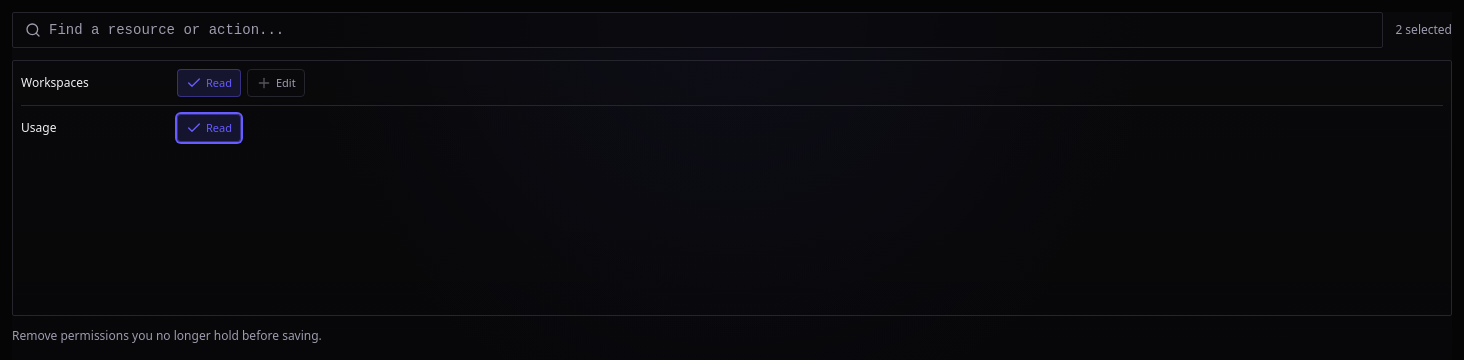
Test: supports keyboard selection and removal without regranting unavailable permissions
Type keys " "
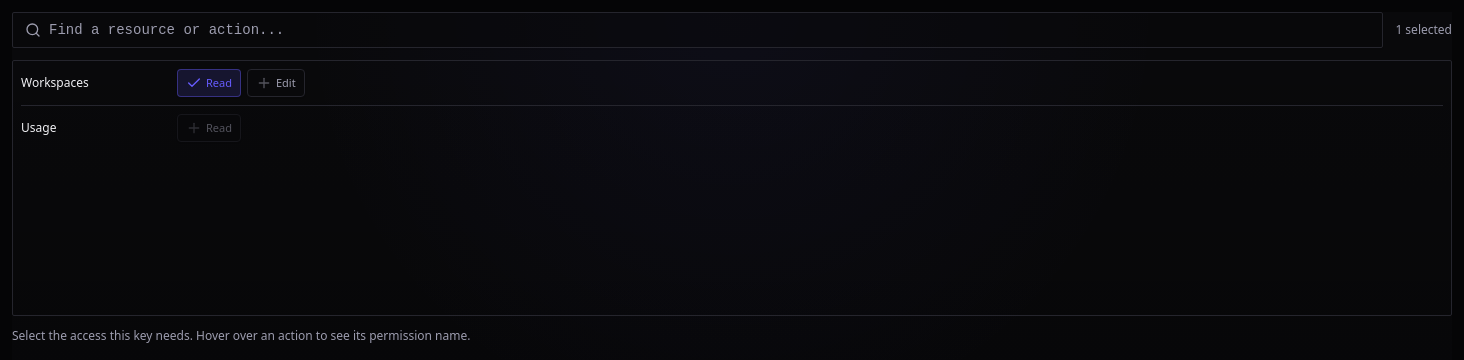
Expected: the checkbox named "usage.read" is not checked, [177,114,241,142]
Expected: the checkbox named "usage.read" is disabled, [177,114,241,142]
Expected: the text "1 selected" is shown, [1395,22,1452,38]
Type "nothing-matches" into the field named "Search permissions".
click(712, 30); type("nothing-matches")  # box [41,12,1382,48]
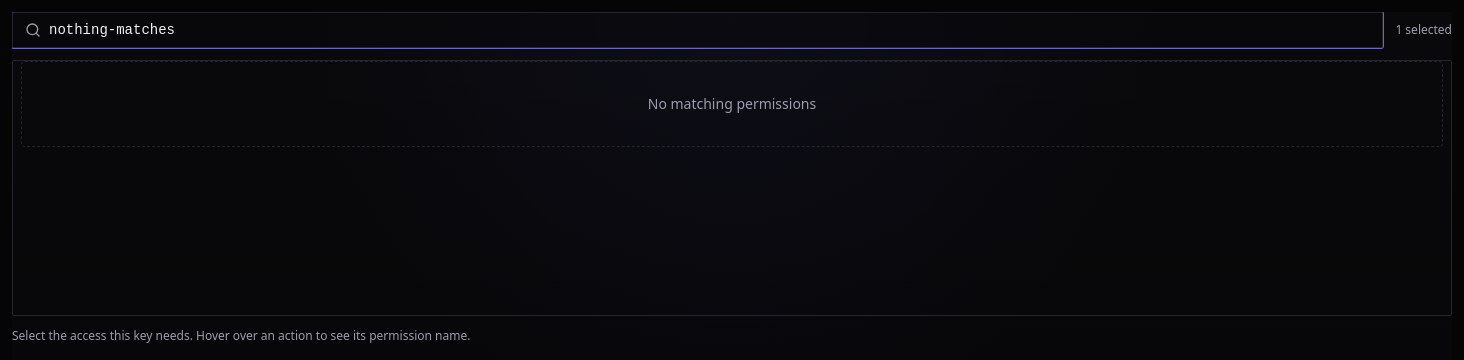
Expected: the text "No matching permissions" is shown, [21,61,1443,147]
